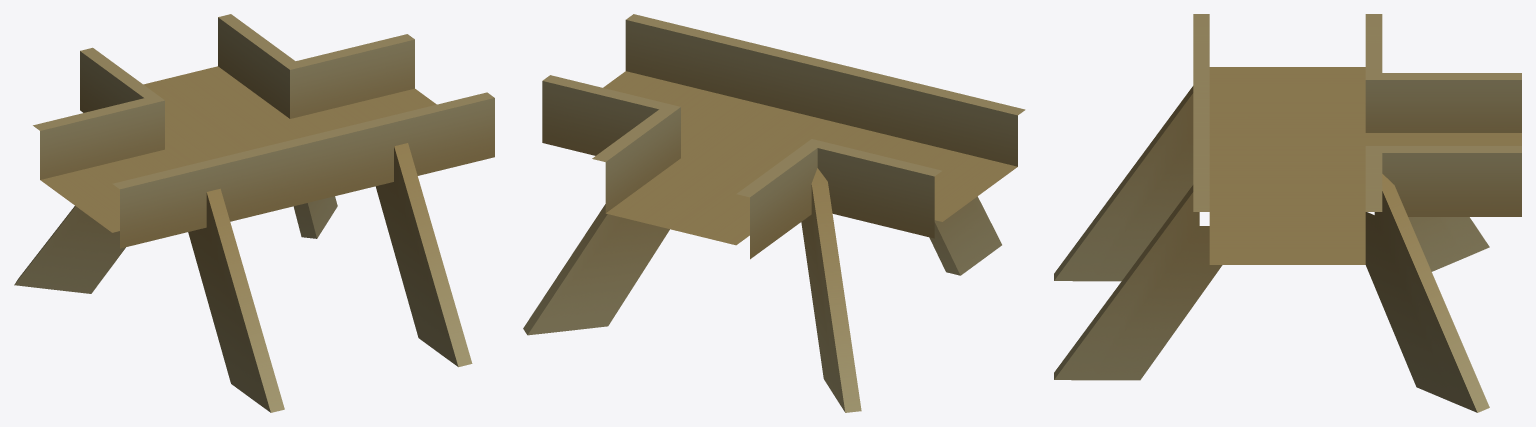
The model's file is aquaduct4.glb.
3 renders of one model, left to right at view 1: azimuth 30°, elevation 25°; view 2: azimuth 150°, elevation 25°; view 3: azimuth 270°, elevation 25°, orthographic. The views are drawn at different scales.
Parts seen in each view (by area): view 1: Aquaduct4; view 2: Aquaduct4; view 3: Aquaduct4.
Part boxes in pixels (x1,y1,x2,y2): Aquaduct4: (14, 14, 494, 412); Aquaduct4: (523, 14, 1025, 412); Aquaduct4: (1054, 14, 1521, 412).
Bounding box in the file's own units: 2 × 1.01 × 2.
1 material, 1 textured.
